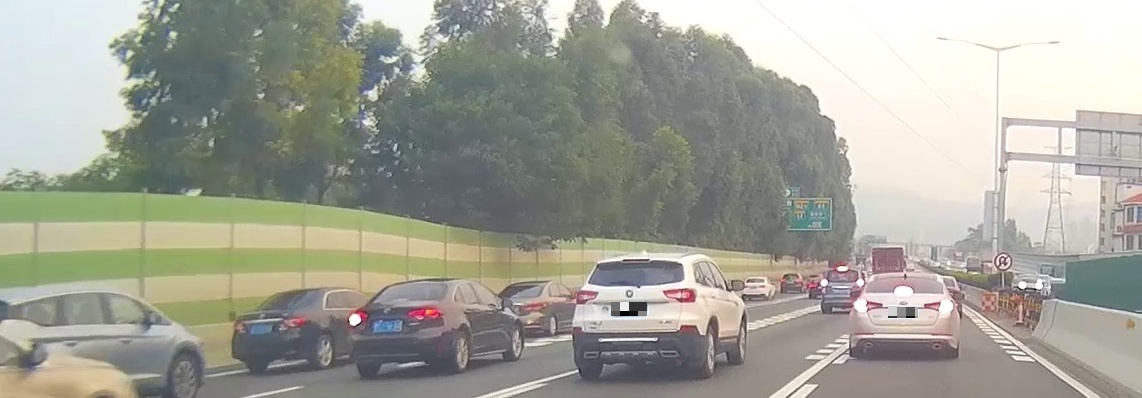L_light: (575, 290, 599, 305), (853, 299, 883, 311), (350, 312, 368, 326), (233, 321, 246, 333)
R_light: (663, 288, 697, 303), (408, 307, 444, 320), (924, 300, 955, 314), (279, 317, 305, 331)
T_light: (622, 258, 650, 263), (894, 286, 914, 291), (396, 297, 410, 301), (288, 293, 300, 297)
day-brake: (847, 270, 961, 360)
day-left: (348, 277, 453, 375)
day-no: (571, 252, 701, 379), (229, 287, 325, 372)
plate_1: (611, 302, 647, 316)
plate_2: (888, 307, 918, 318)
